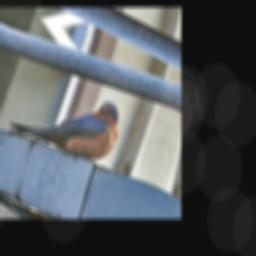Swallow: (0, 61, 126, 178)
